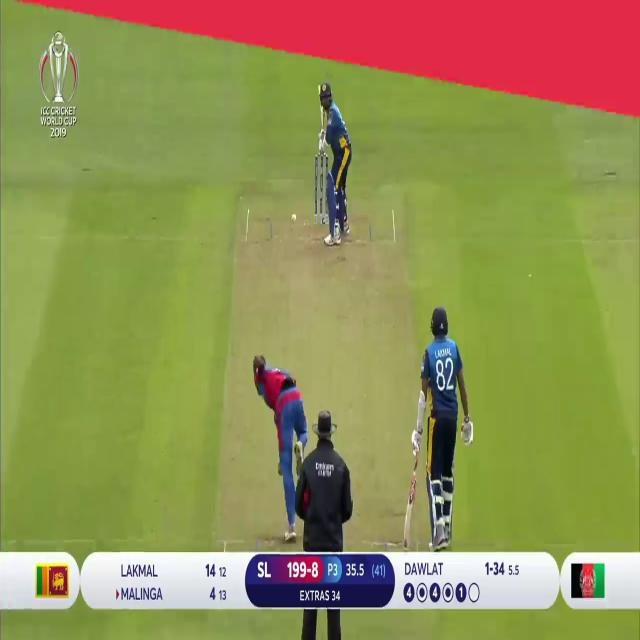ball: (290, 213, 297, 224)
